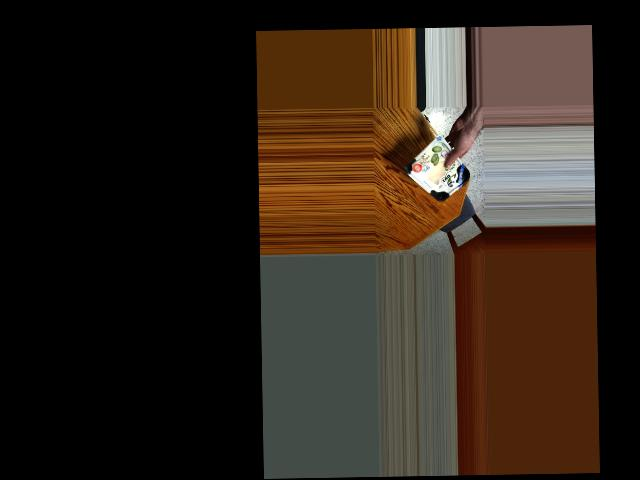cheese: (410, 154, 467, 193)
